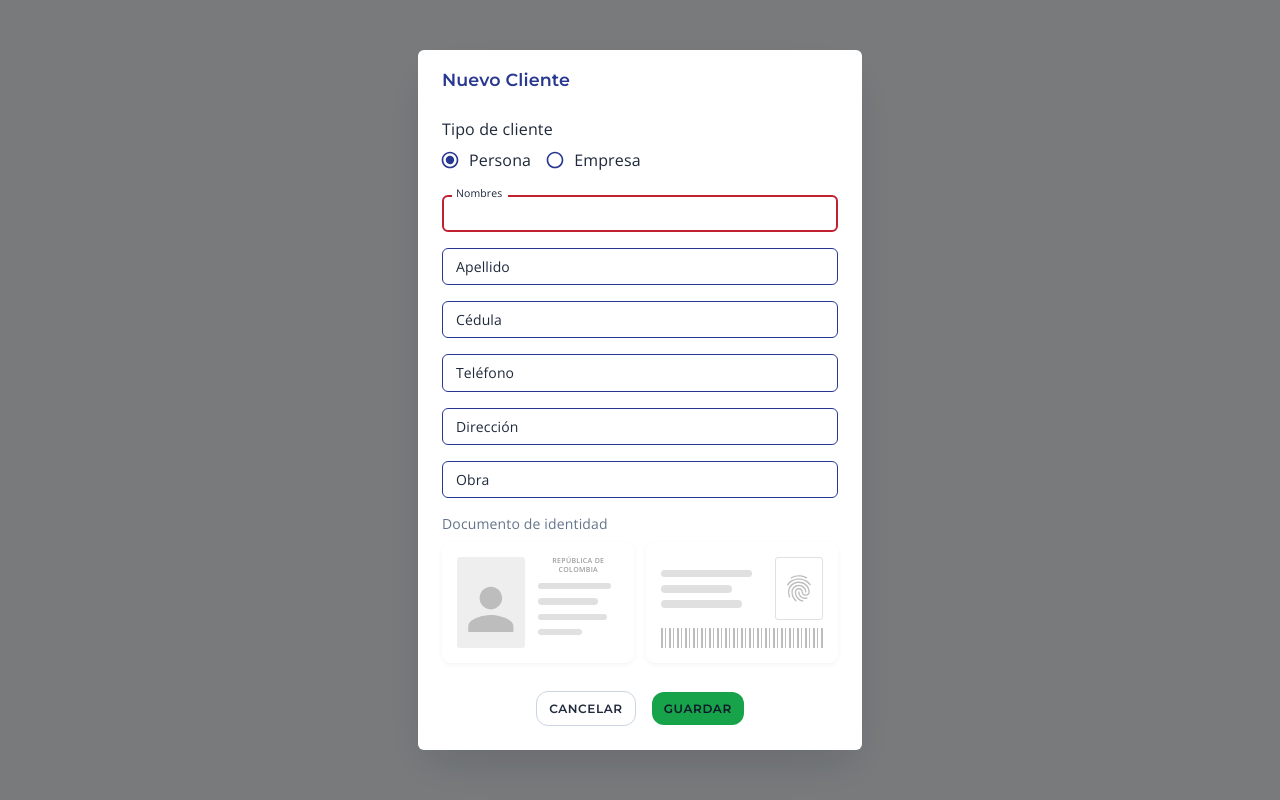
Scenario: ClienteFormDialog — lo que no deja pasar › una empresa sin razón social tampoco
The image size is (1280, 800).
Click the radio button labelled "Empresa" at (593, 160), box [545,149,641,171]
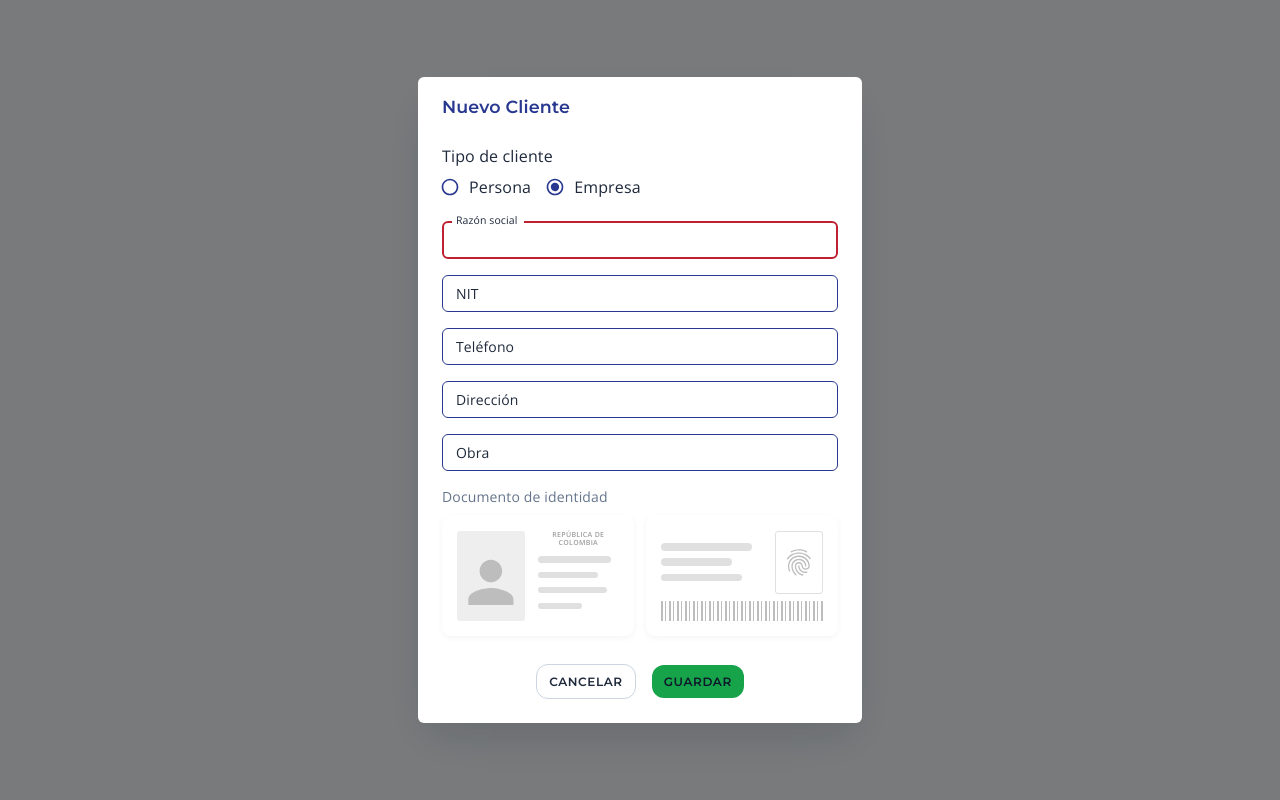
Click the button "Guardar" at (698, 682), box [652,665,744,698]
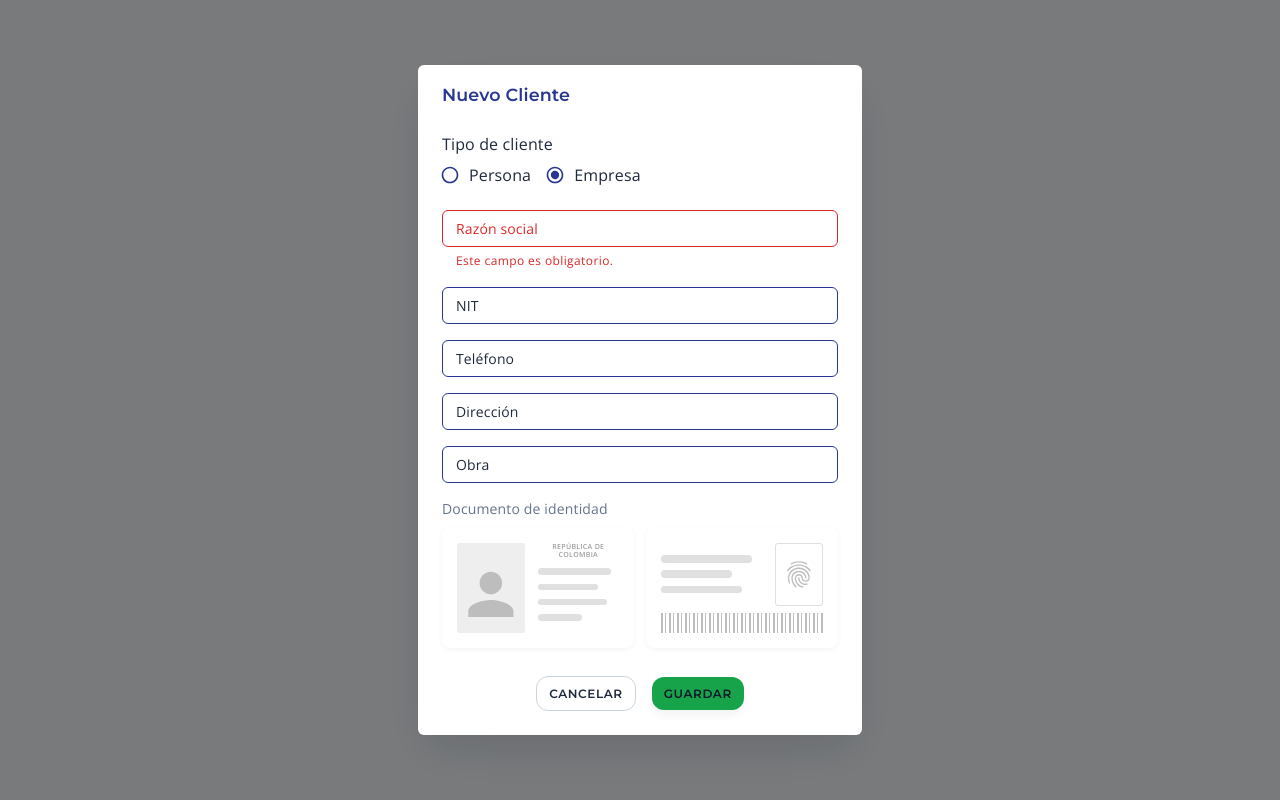
Expected: the text "Este campo es obligatorio." is shown, [456,252,613,269]
